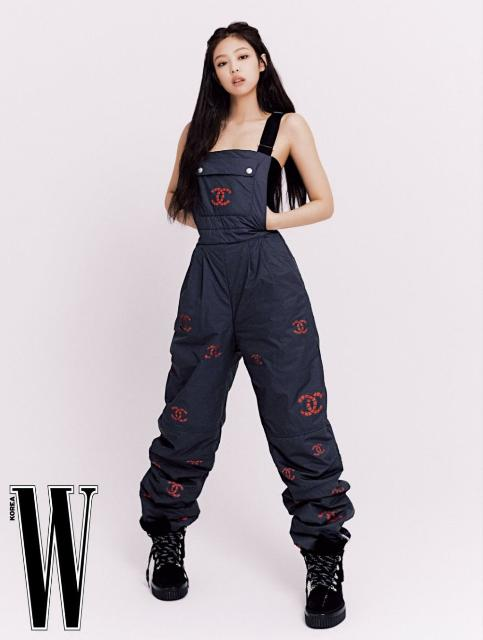Chanel: (207, 180, 241, 213), (161, 472, 197, 503), (293, 389, 329, 419), (278, 462, 308, 494), (309, 506, 343, 530), (284, 316, 314, 339), (170, 400, 192, 430), (180, 312, 202, 338), (203, 338, 225, 362), (248, 351, 271, 371), (309, 444, 333, 462)
